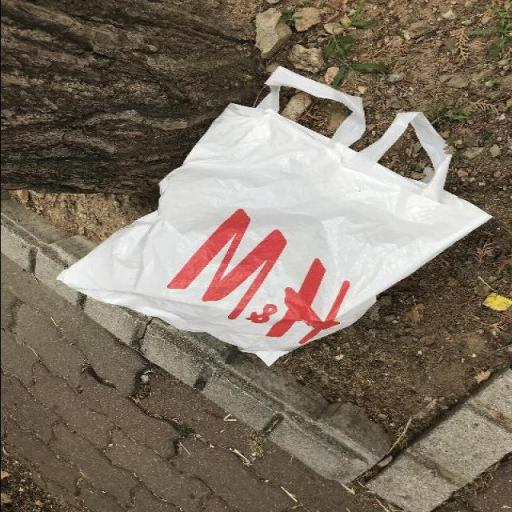plastic-bag: (50, 63, 493, 370)
